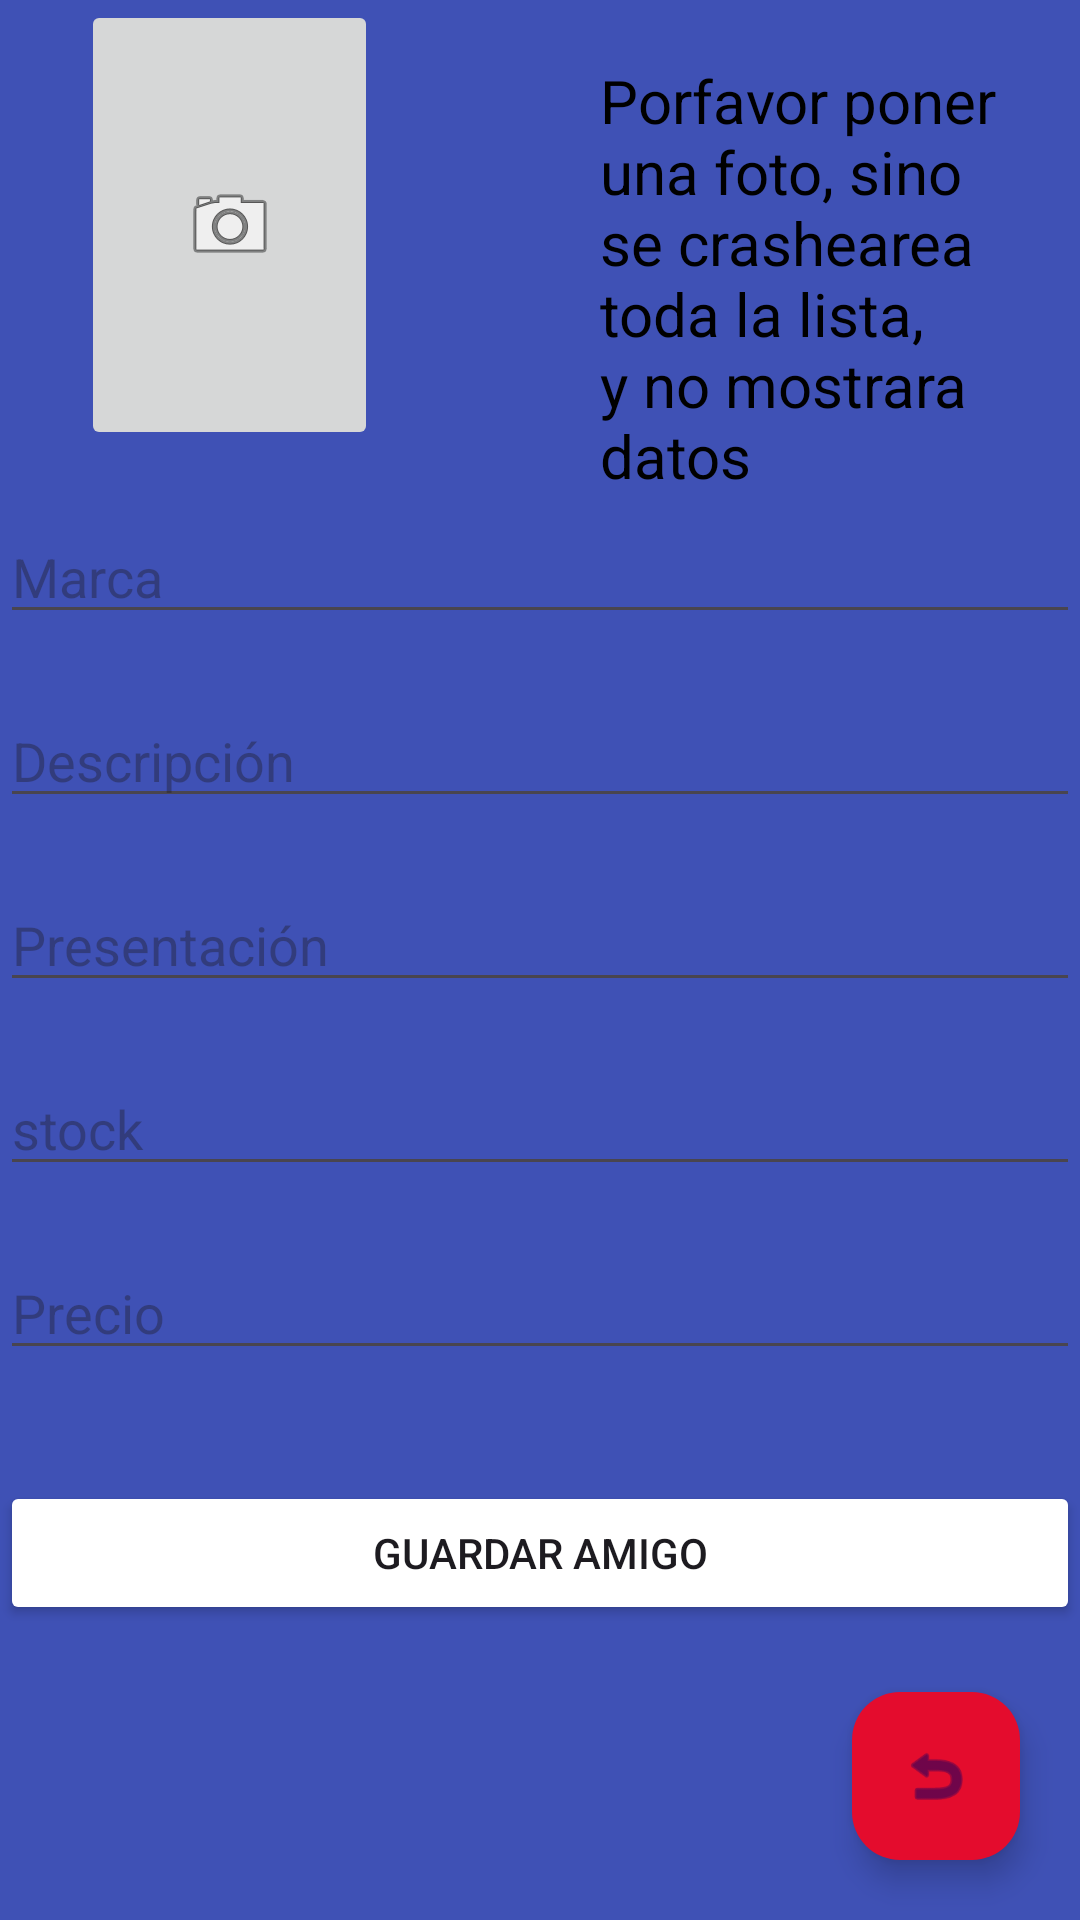

Where to tap for icons on this 1080×1920 app screen, as (x=x, y=y):
revert: (x=936, y=1776)
